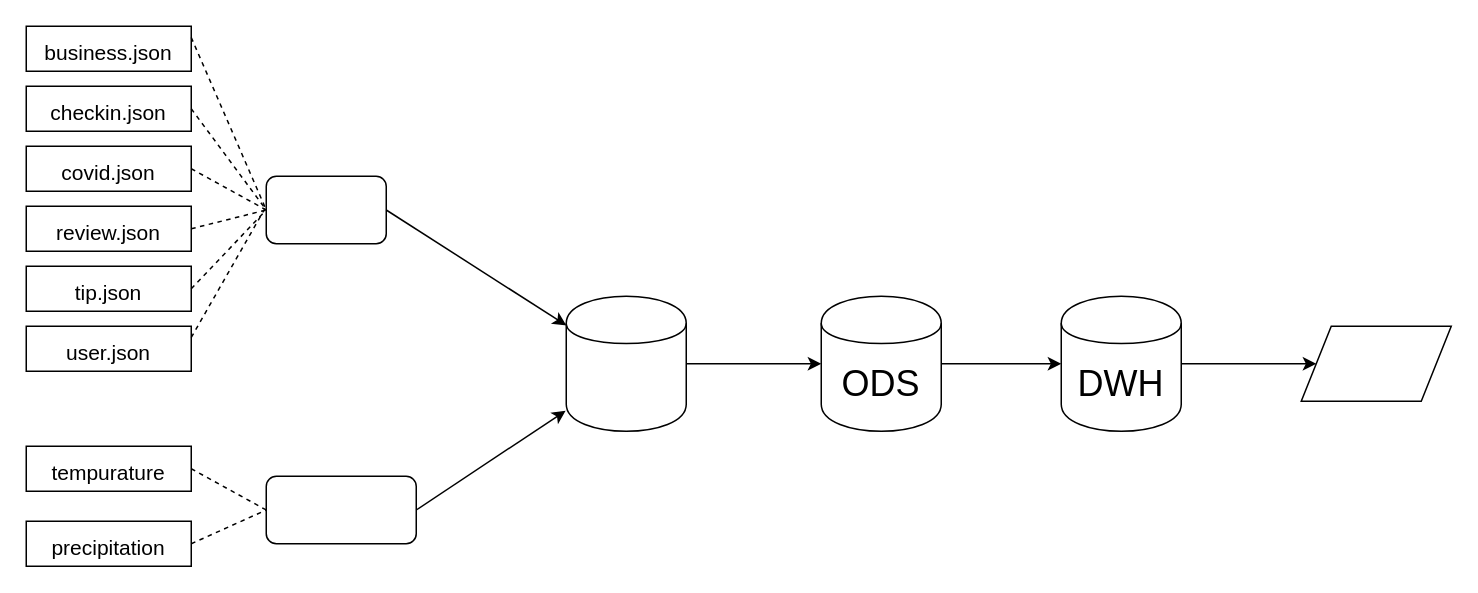
Image size: 1478x593. Some labels were removed from this diagram. Each missing label, with the box of its shape:
Report: (1300, 325, 1451, 401)
Staging: (565, 295, 686, 431)
weather_data: (265, 475, 416, 544)
yelp_data: (265, 175, 386, 244)
